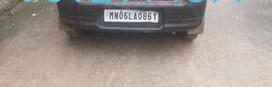MN06LA0861: (102, 8, 158, 21)
